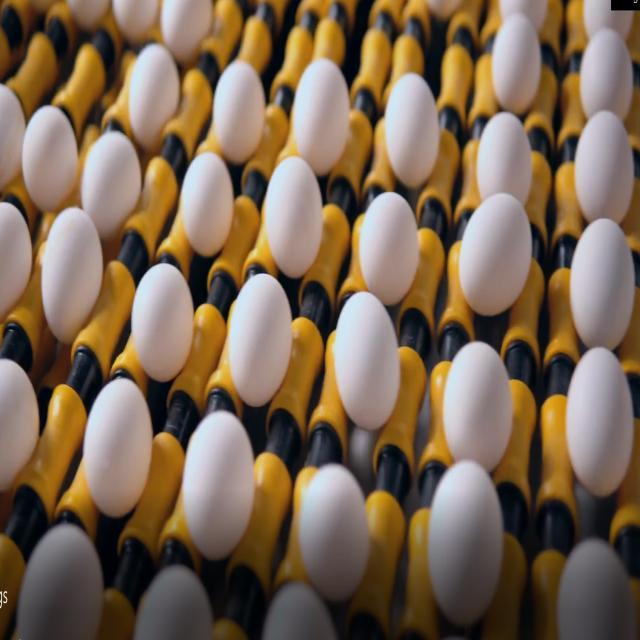Egg: (426, 450, 504, 625), (178, 402, 256, 570), (78, 371, 154, 534), (456, 186, 538, 324), (565, 338, 636, 497), (17, 518, 108, 640), (335, 290, 405, 445), (298, 460, 372, 603), (564, 222, 638, 362), (230, 268, 296, 422), (442, 341, 520, 469), (127, 258, 197, 392), (40, 208, 106, 348), (261, 151, 330, 283), (554, 535, 639, 640), (355, 177, 423, 304), (574, 105, 640, 232), (288, 43, 354, 169), (177, 150, 246, 268), (85, 128, 150, 252), (384, 66, 447, 188), (211, 56, 271, 170), (122, 44, 187, 148), (0, 356, 45, 506), (475, 108, 541, 210), (25, 92, 81, 206), (576, 26, 638, 120), (490, 15, 547, 109), (0, 194, 38, 316)
